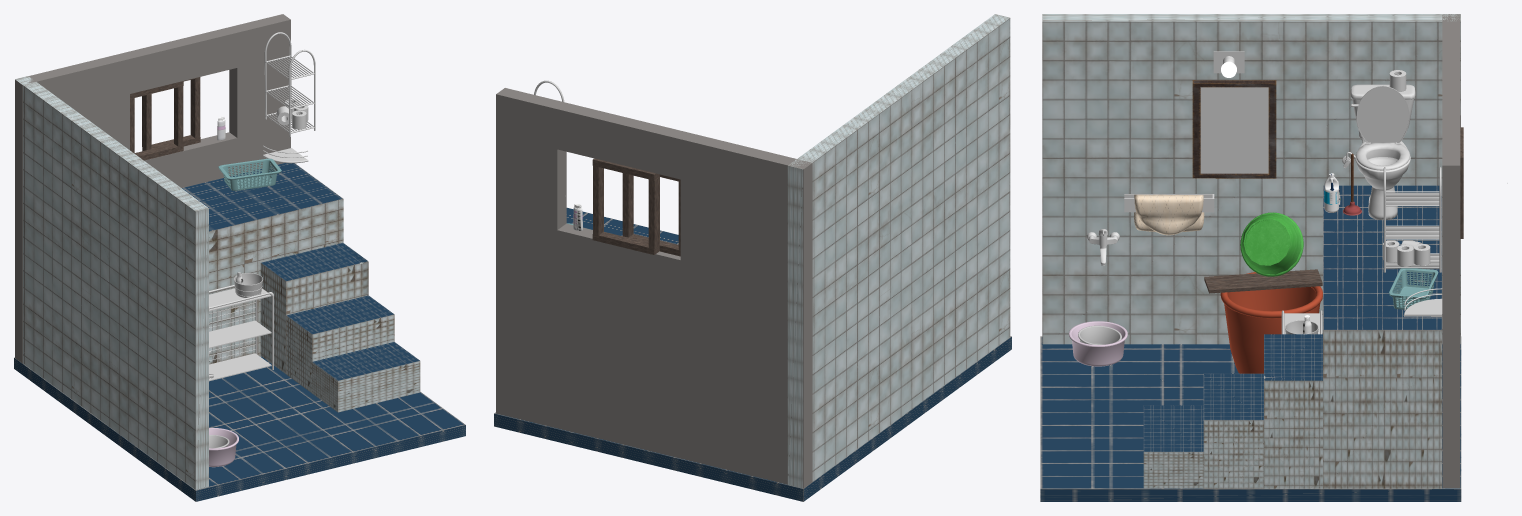
3 renders of one model, left to right at view 1: azimuth 30°, elevation 25°; view 2: azimuth 150°, elevation 25°; view 3: azimuth 270°, elevation 25°, orthographic. The views are drawn at different scales.
Parts seen in each view (by area): view 1: 큐브.2, 큐브.1, 큐브, 큐브.20-재질, 큐브.3-재질, 큐브.20-재질.4, 큐브.3-재질.4, 큐브.4, Plane, 큐브.5, 큐브.6, 큐브.8 (+6 smaller); view 2: 큐브.1, 큐브.2, 큐브, 큐브.5, 큐브.4, 큐브.3-재질.4; view 3: 큐브.2, 큐브, 큐브.3-재질, 큐브.20-재질, 큐브.3-재질.4, 큐브.1, 큐브.20-재질.4, 큐브.10, 대야1, 대야2, Toilet, Object_2 (+14 smaller).
Boxes of the visible parts, left/top/right/bottom form: 큐브.2: left=15, top=76, right=208, bottom=489; 큐브.1: left=15, top=14, right=290, bottom=363; 큐브: left=14, top=356, right=465, bottom=501; 큐브.20-재질: left=260, top=261, right=420, bottom=412; 큐브.3-재질: left=209, top=199, right=343, bottom=364; 큐브.20-재질.4: left=261, top=242, right=419, bottom=380; 큐브.3-재질.4: left=182, top=163, right=342, bottom=231; 큐브.4: left=130, top=81, right=183, bottom=160; Plane: left=218, top=158, right=281, bottom=190; 큐브.5: left=142, top=77, right=200, bottom=151; 큐브.6: left=209, top=320, right=271, bottom=348; 큐브.8: left=209, top=353, right=271, bottom=381; 큐브.1: left=496, top=88, right=812, bottom=488; 큐브.2: left=787, top=14, right=1010, bottom=488; 큐브: left=494, top=336, right=1011, bottom=501; 큐브.5: left=592, top=158, right=659, bottom=254; 큐브.4: left=622, top=173, right=680, bottom=256; 큐브.3-재질.4: left=566, top=207, right=678, bottom=244; 큐브.2: left=1042, top=14, right=1460, bottom=344; 큐브: left=1040, top=336, right=1461, bottom=501; 큐브.3-재질: left=1323, top=330, right=1441, bottom=488; 큐브.20-재질: left=1143, top=376, right=1322, bottom=488; 큐브.3-재질.4: left=1323, top=185, right=1441, bottom=330; 큐브.1: left=1442, top=14, right=1460, bottom=487; 큐브.20-재질.4: left=1143, top=334, right=1322, bottom=451; 큐브.10: left=1200, top=87, right=1268, bottom=173; 대야1: left=1220, top=272, right=1322, bottom=373; 대야2: left=1240, top=212, right=1303, bottom=276; Toilet: left=1342, top=84, right=1415, bottom=219; Object_2: left=1192, top=80, right=1276, bottom=178.
Bounding box in the file's own units: 3.02 × 3.1 × 3.91.
21 materials, 12 textured.
